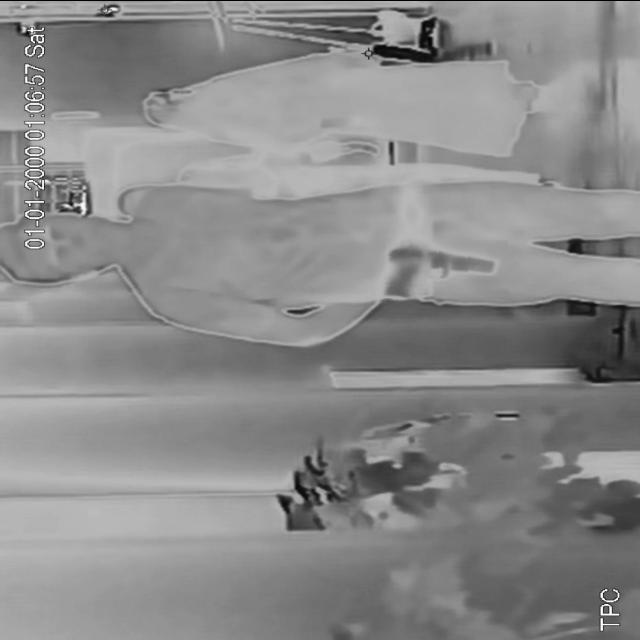Weapon: (370, 240, 510, 297)
